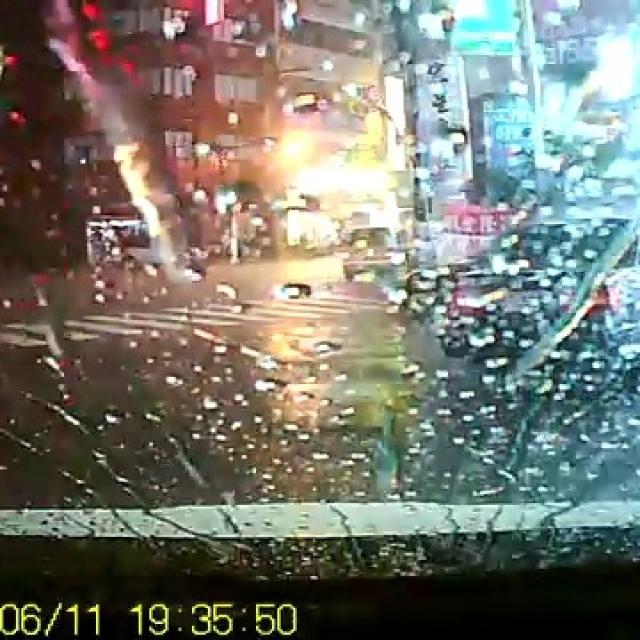Car: (426, 211, 634, 373), (337, 223, 410, 277), (119, 232, 209, 265)
